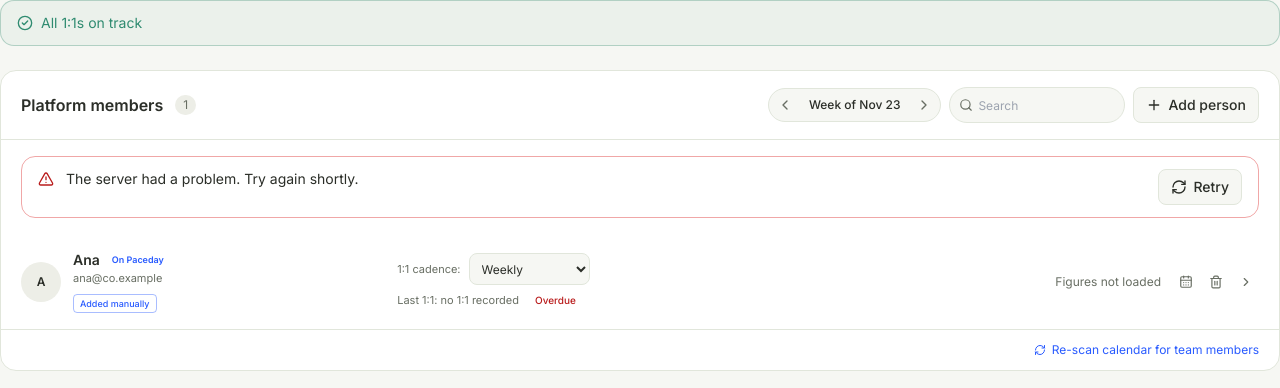
PAC-122 batch 6, manager tab › SF-085: a failed analytics read is shown once with a retry, and no row says 'Data unavailable'
The width and height of the screenshot is (1280, 388).
Check: the element with test id "manager-analytics-error" shows "The server had a problem. Try again shortly.", box [66,170,359,187]
Check: the text "Data unavailable" is not shown
Click the button "Retry".
click(1200, 187)  # box [1158,169,1242,205]
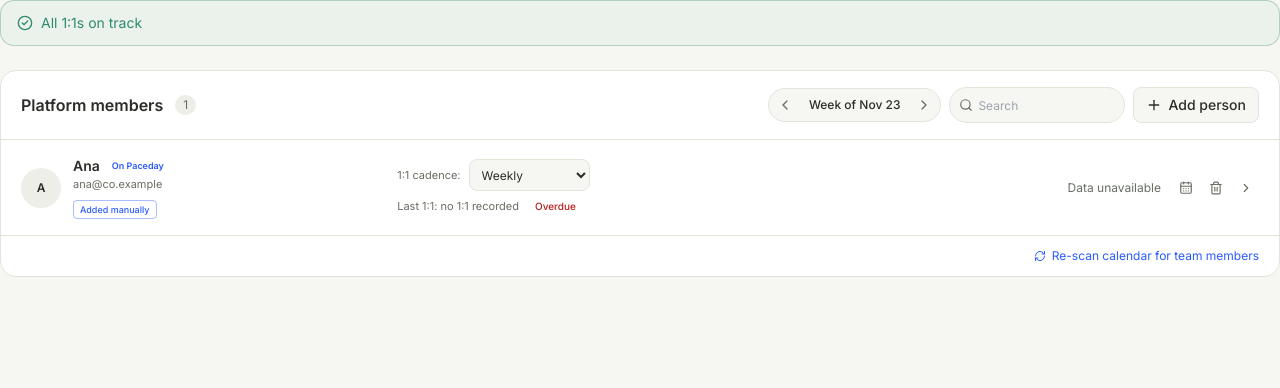
Check: the element with test id "manager-analytics-error" is gone
